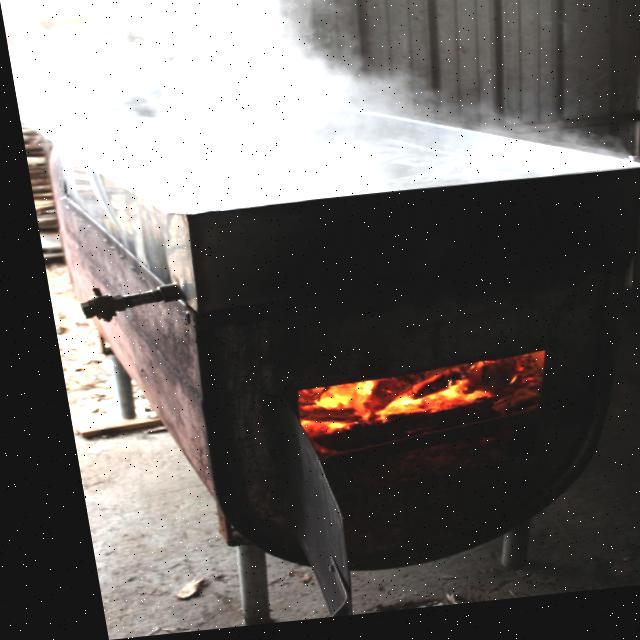Fire: (278, 376, 482, 432)
